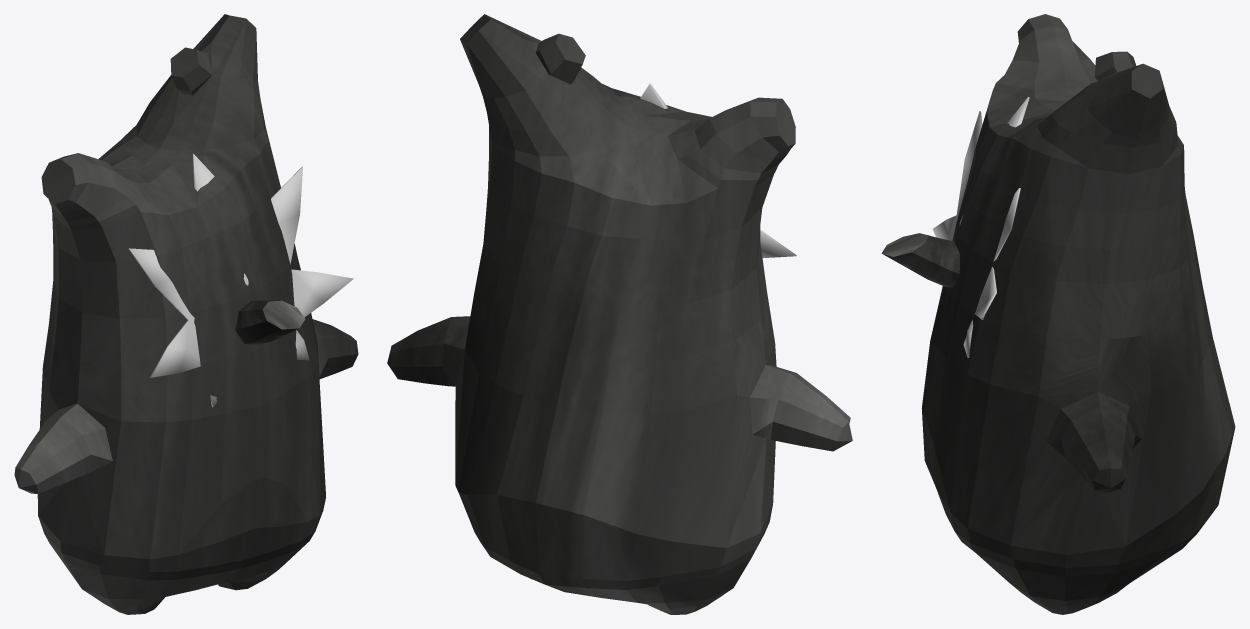
The model's file is frame_0033.obj.
The picture shows the model from 3 angles, left to right: view 1: azimuth 30°, elevation 25°; view 2: azimuth 150°, elevation 25°; view 3: azimuth 270°, elevation 25°; orthographic projection. The views are drawn at different scales.
Parts seen in each view (by area): view 1: korok, leaf, nose.003_柱体.011; view 2: korok, leaf; view 3: korok, nose.003_柱体.011, leaf.
Part boxes in pixels (box(x1,y1,x2,y2)): korok: box(14, 14, 358, 614); leaf: box(128, 153, 353, 407); nose.003_柱体.011: box(235, 300, 305, 344); korok: box(387, 14, 852, 614); leaf: box(640, 83, 796, 257); korok: box(921, 14, 1235, 614); nose.003_柱体.011: box(881, 233, 959, 287); leaf: box(933, 97, 1029, 357).
Bounding box in the file's own units: 1.71 × 2.3 × 1.31.
